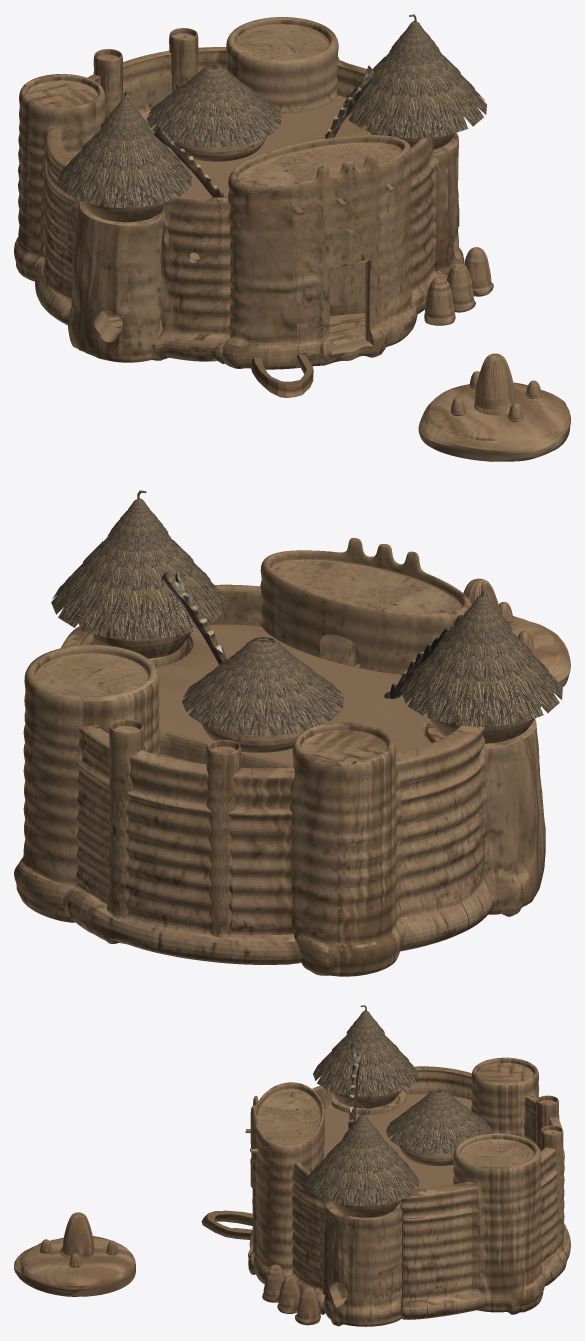
File: La_Takienta.glb
3 views of the same model, one above another, from view 1: azimuth 30°, elevation 25°; view 2: azimuth 150°, elevation 25°; view 3: azimuth 270°, elevation 25° (orthographic). The views are drawn at different scales.
Visible parts, largest first — view 1: FORTRESSES, ALTARS, THATCHED ROOF_1, THATCHED ROOF_2, Object_5.004, THATCHED COVER_2, THATCHED COVER_1, Cylinder.009, ATTIC_2, LADDER_2, LADDER_1; view 2: FORTRESSES, THATCHED ROOF_1, THATCHED ROOF_2, Object_5.004, ALTARS, THATCHED COVER_2, THATCHED COVER_1, Cylinder.009, ATTIC_1, LADDER_1, ATTIC_2, LADDER_2; view 3: FORTRESSES, ALTARS, THATCHED ROOF_1, THATCHED ROOF_2, Object_5.004, THATCHED COVER_2, THATCHED COVER_1, ATTIC_1, Cylinder.009, ATTIC_2, LADDER_2.
Boxes of the visible parts, x1,y1,x2,y2 form: FORTRESSES: [14, 17, 464, 397]; ALTARS: [418, 247, 570, 461]; THATCHED ROOF_1: [342, 50, 487, 138]; THATCHED ROOF_2: [57, 127, 192, 208]; Object_5.004: [146, 65, 281, 147]; THATCHED COVER_2: [101, 91, 149, 137]; THATCHED COVER_1: [390, 14, 439, 60]; Cylinder.009: [168, 102, 266, 161]; ATTIC_2: [79, 154, 174, 222]; LADDER_2: [154, 126, 223, 196]; LADDER_1: [324, 65, 374, 138]; FORTRESSES: [14, 538, 545, 976]; THATCHED ROOF_1: [51, 533, 225, 639]; THATCHED ROOF_2: [401, 629, 562, 726]; Object_5.004: [182, 637, 343, 735]; ALTARS: [463, 578, 570, 692]; THATCHED COVER_2: [453, 582, 511, 641]; THATCHED COVER_1: [109, 490, 168, 545]; Cylinder.009: [201, 715, 321, 752]; ATTIC_1: [78, 619, 190, 658]; LADDER_1: [162, 571, 227, 664]; ATTIC_2: [426, 704, 540, 743]; LADDER_2: [384, 615, 462, 698]; FORTRESSES: [201, 1057, 570, 1326]; ALTARS: [14, 1212, 320, 1325]; THATCHED ROOF_1: [306, 1137, 419, 1206]; THATCHED ROOF_2: [313, 1034, 418, 1096]; Object_5.004: [386, 1089, 491, 1153]; THATCHED COVER_2: [346, 1005, 384, 1041]; THATCHED COVER_1: [343, 1106, 381, 1144]; ATTIC_1: [332, 1190, 402, 1217]; Cylinder.009: [399, 1142, 453, 1165]; ATTIC_2: [331, 1082, 403, 1107]; LADDER_2: [348, 1044, 363, 1129].
Size of the model in its own units: 4.95 by 3.09 by 7.46.
4 materials, 4 textured.
